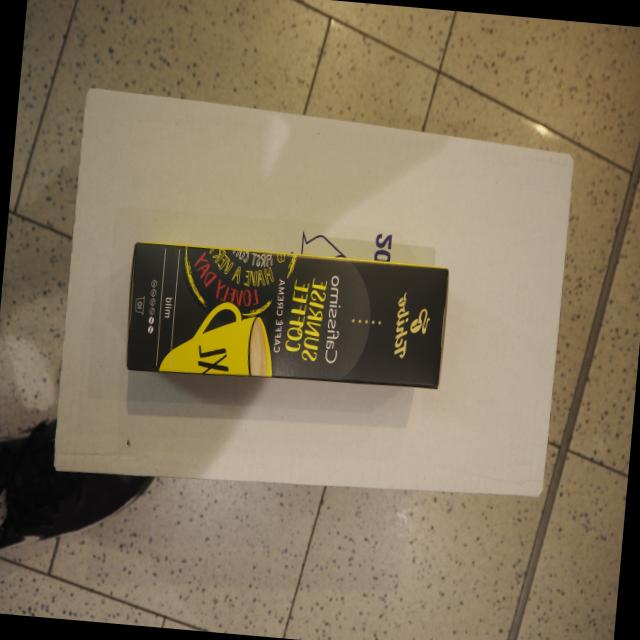Simo Sunrise: (120, 234, 452, 398)
